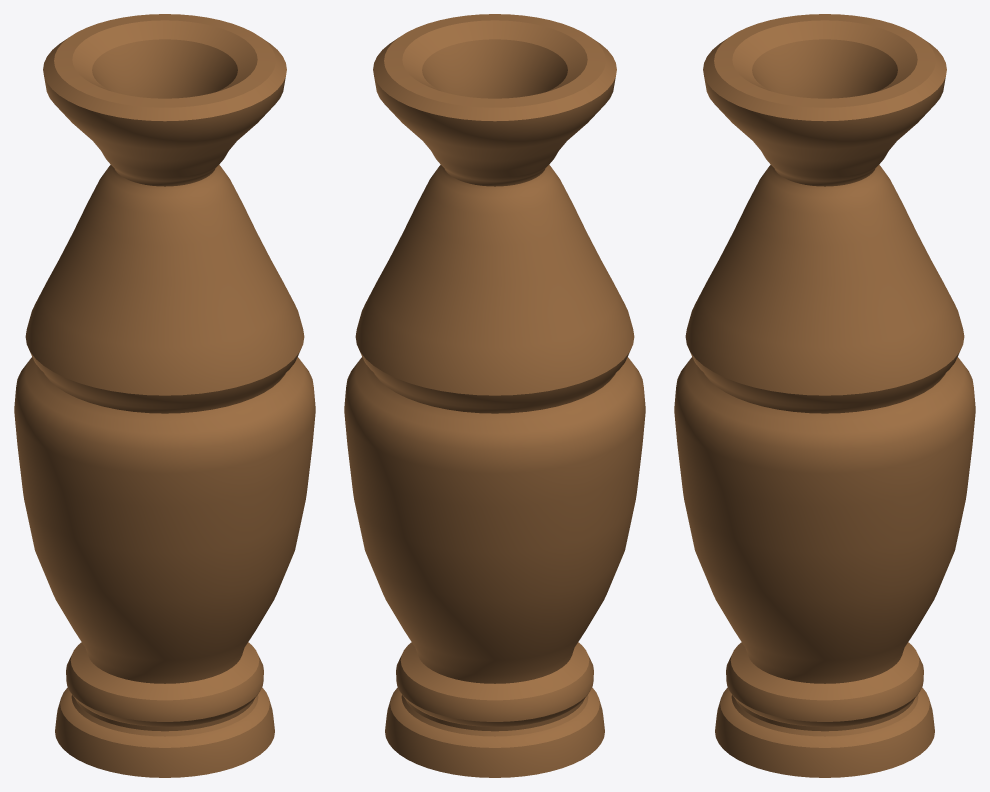
The model's file is env-pot3.fbx.
3 views of the same model, side by side, from view 1: azimuth 30°, elevation 25°; view 2: azimuth 150°, elevation 25°; view 3: azimuth 270°, elevation 25° (orthographic).
Parts seen in each view (by area): view 1: Circle.124; view 2: Circle.124; view 3: Circle.124.
Part boxes in pixels (x1,y1,x2,y2): Circle.124: [14, 14, 315, 777]; Circle.124: [344, 14, 645, 777]; Circle.124: [674, 14, 975, 777].
Bounding box in the file's own units: 40.16 × 99.54 × 40.16.
